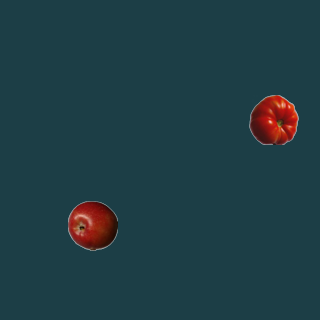Apple Braeburn: (67, 200, 117, 250)
Tomato 3: (248, 94, 298, 144)
